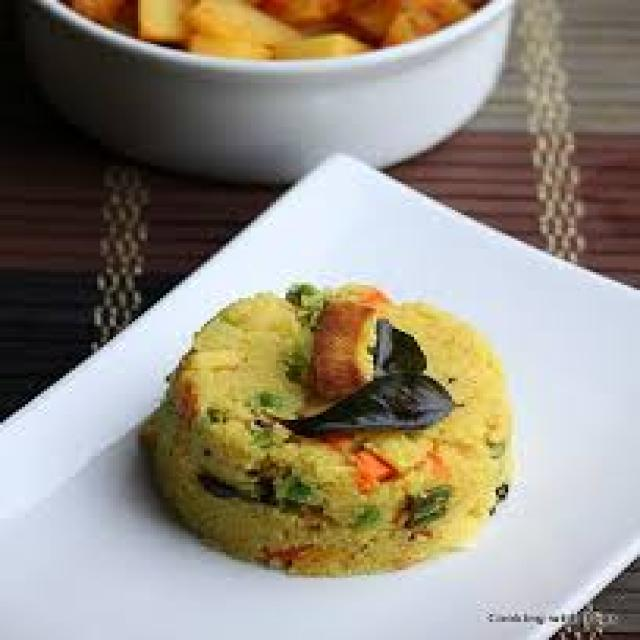UPMA: (158, 286, 516, 572)
